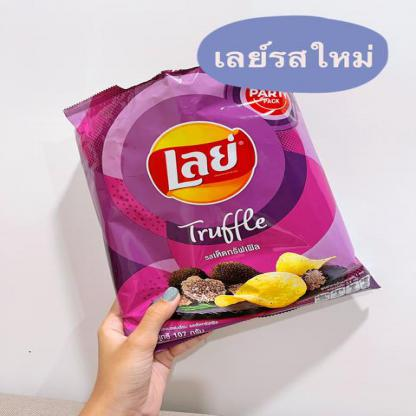potatochip: (65, 55, 387, 373)
